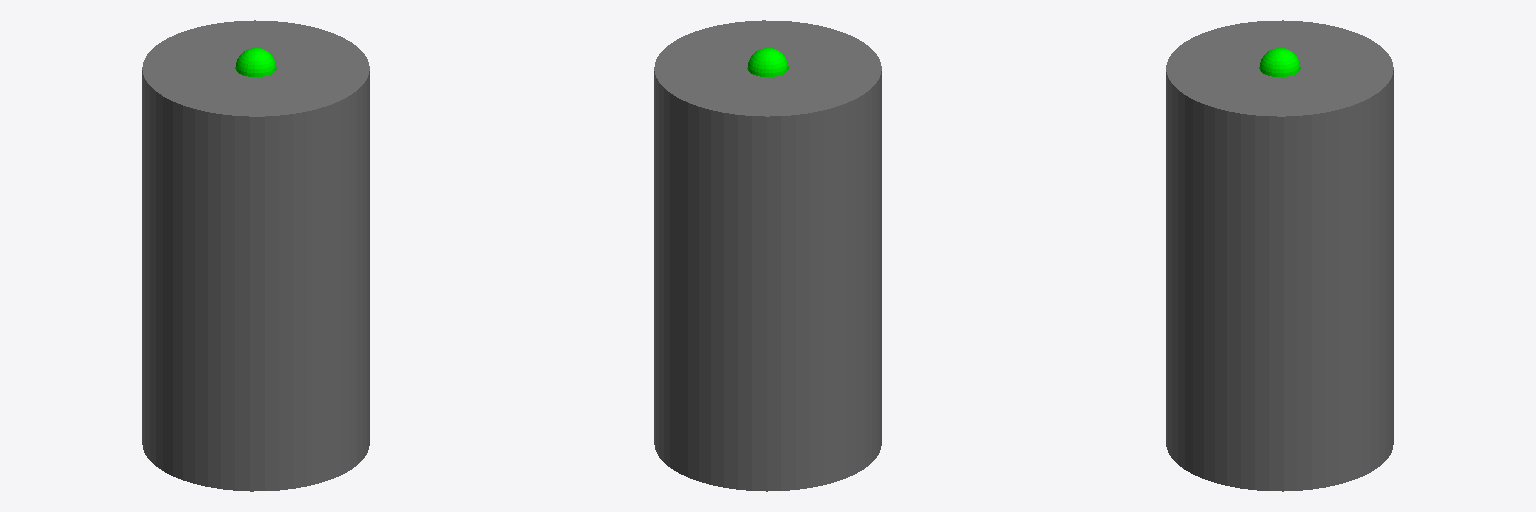
robot.urdf — plate_holder.urdf:
<?xml version="0.0" ?>
<robot name="plate_holder.urdf">
    <link name="base_link">
        <contact>
            <lateral_friction value="0.15"/>
            <rolling_friction value="0.0001"/>
            <inertia_scaling value="3.0"/>
        </contact>
        <inertial>
            <origin rpy="0 0 0" xyz="0 0 0"/>
            <mass value="10"/>
            <inertia ixx="1" ixy="0" ixz="0" iyy="1" iyz="0" izz="1"/>
        </inertial>
        <visual>
            <origin rpy="0 0 0" xyz="0 0 0"/>
            <geometry>
                <mesh filename="plate_holder.stl"/>
            </geometry>
            <material name="gray">
                <color rgba="0.5 0.5 0.5 1"/>
            </material>
        </visual>
        <collision>
            <origin rpy="0 0 0" xyz="0 0 0"/>
            <geometry>
                <mesh filename="plate_holder.stl"/>
            </geometry>
        </collision>
    </link>

    <link name="top_origin_link">
        <inertial>
            <mass value="0.0"/>
            <origin rpy="0 0 0" xyz="0.0 0.0 0.0"/>
            <inertia ixx="0.0" ixy="0.0" ixz="0.0" iyy="0.0" iyz="0.0" izz="0.0"/>
        </inertial>
        <visual>
            <origin rpy="0 0 0" xyz="0 0 0"/>
            <geometry>
                <sphere radius="0.01"/>
            </geometry>
            <material name="green">
                <color rgba="0 1.0 0 1.0"/>
            </material>
        </visual>
    </link>

    <joint name="top_origin_joint" type="fixed">
        <axis xyz="0 0 1"/>
        <origin xyz="0 0 0.2"/>
        <parent link="base_link"/>
        <child link="top_origin_link"/>
    </joint>

</robot>

--- What the picture shows (computed from the rendered views, not written in the file) ---
The picture shows the robot from 3 angles, left to right: view 1: azimuth 30°, elevation 25°; view 2: azimuth 150°, elevation 25°; view 3: azimuth 270°, elevation 25°; orthographic projection.
Robot: plate_holder.urdf — 2 links, 1 joints (1 fixed); root link base_link; default pose: all joints at 0.
Visible links, largest first — view 1: base_link, top_origin_link; view 2: base_link, top_origin_link; view 3: base_link, top_origin_link.
Boxes of the visible links, <box> form: base_link: <box>142,20,369,491</box>; top_origin_link: <box>235,48,276,76</box>; base_link: <box>654,20,881,491</box>; top_origin_link: <box>747,48,788,76</box>; base_link: <box>1166,20,1393,491</box>; top_origin_link: <box>1259,48,1300,76</box>.
Size in the robot's own frame: 0.1099 by 0.11 by 0.21 metres.
1 mesh visuals loaded from 1 distinct referenced files (1 binary STL).